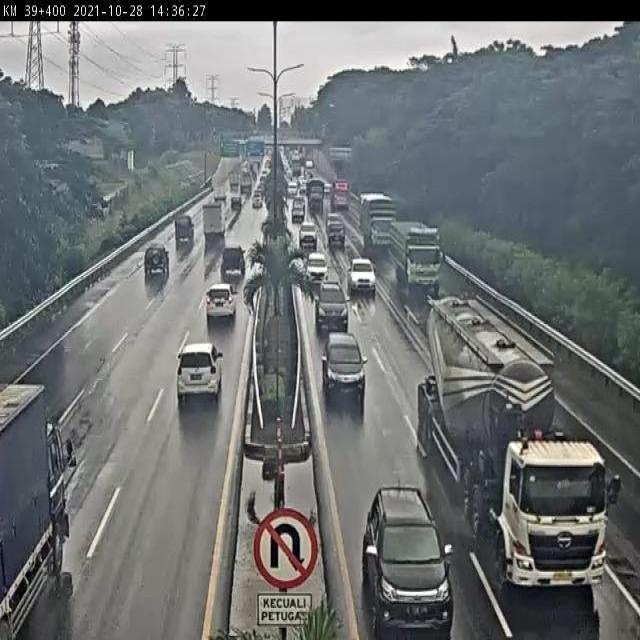big truck: (416, 293, 610, 591), (392, 221, 443, 296), (360, 195, 397, 253), (200, 204, 224, 243)
car: (363, 486, 457, 640), (322, 328, 368, 401), (175, 341, 224, 403), (315, 281, 350, 331), (204, 284, 237, 324), (219, 243, 248, 280), (142, 242, 171, 278), (346, 254, 373, 290), (304, 251, 330, 285), (172, 212, 195, 245), (299, 222, 320, 250), (327, 218, 345, 250)
